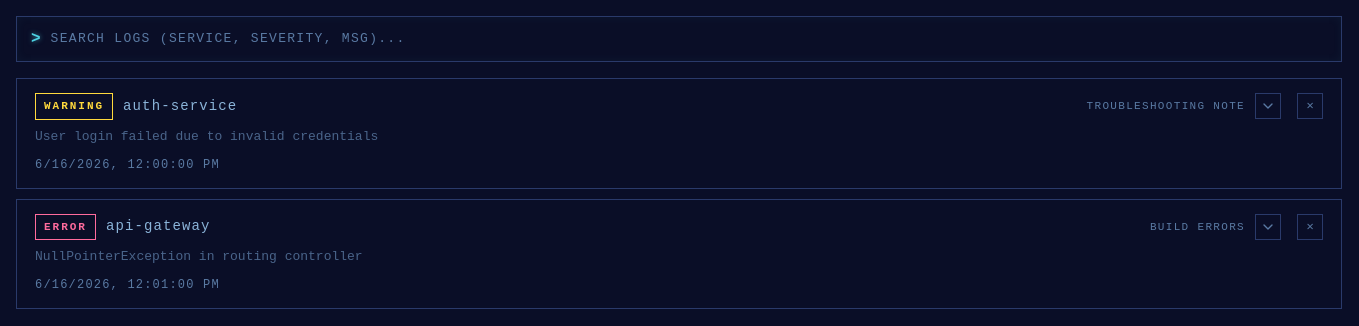
Scenario: LogList › should toggle expanded class and log-preview--expanded class when clicking expand button
Note: Click expand
Click the button with class "expand-btn" next to "TROUBLESHOOTING NOTE" at (1268, 106), box [1255,93,1281,119]
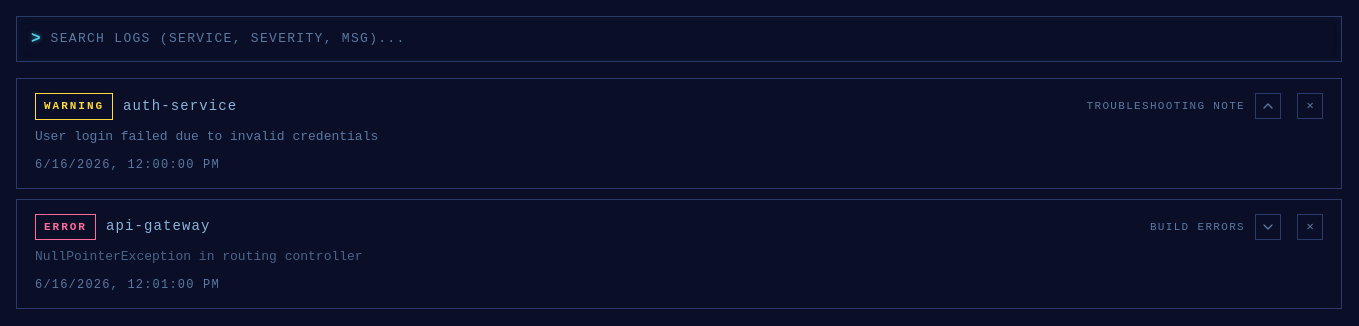
Expected: the button with class "expand-btn" is expanded
Note: Click collapse
Click the 1st button with class "expand-btn" at (1268, 106), box [1255,93,1281,119]
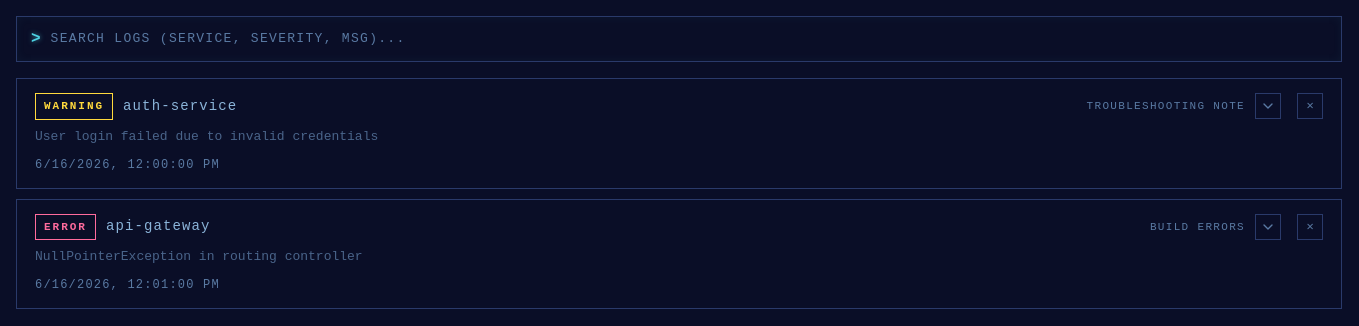
Expected: the button with class "expand-btn" next to "TROUBLESHOOTING NOTE" is collapsed, [1255,93,1281,119]
